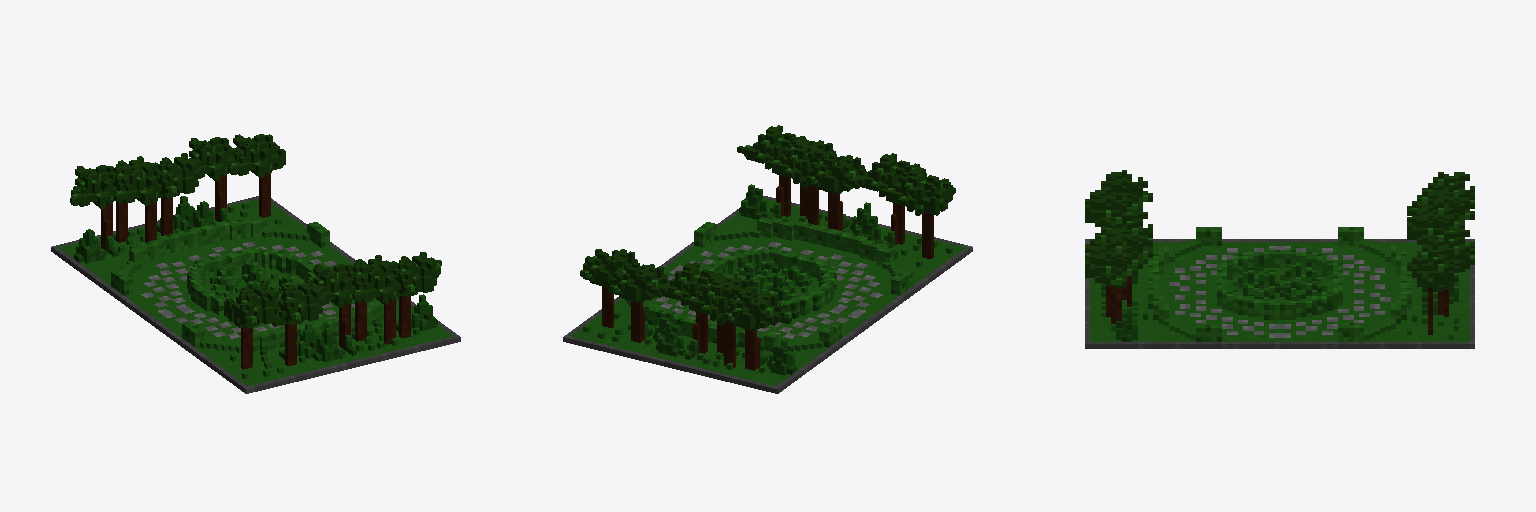
3 renders of one model, left to right at view 1: azimuth 30°, elevation 25°; view 2: azimuth 150°, elevation 25°; view 3: azimuth 270°, elevation 25°, orthographic.
Parts seen in each view (by area): view 1: object 1; view 2: object 1; view 3: object 1.
Part boxes in pixels (x1,y1,x2,y2): object 1: (51, 134, 460, 393); object 1: (563, 125, 972, 393); object 1: (1085, 170, 1474, 348).
Bounding box in the file's own units: 4.7 × 1.7 × 7.4.
1 materials, 1 textured.